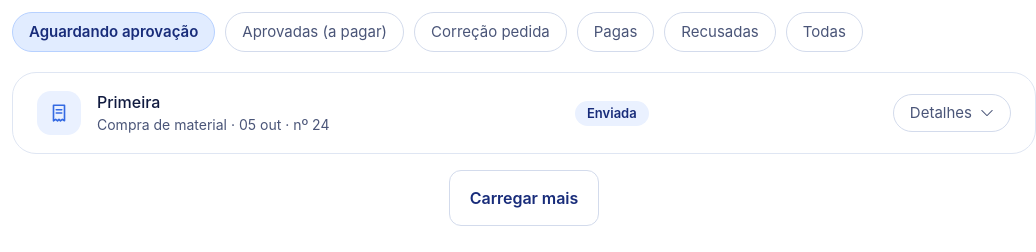
Test: Fila da gestao › carregar mais segue o cursor e acrescenta
The width and height of the screenshot is (1036, 252).
Expected: the text "Primeira" is shown, [97, 92, 160, 112]
Click the button "Carregar mais". click: (524, 198)
box: [449, 170, 599, 226]
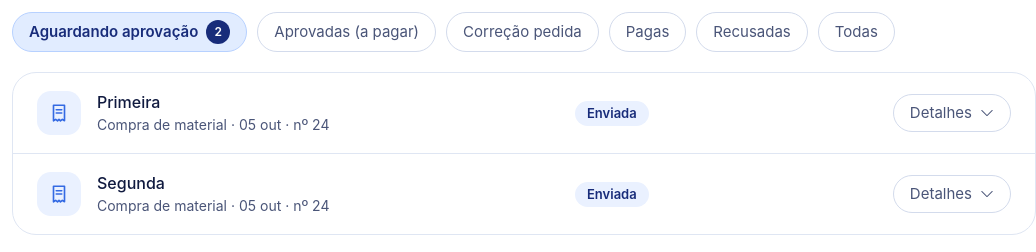
Now the text "Segunda" is shown, box [97, 173, 165, 193]
Now the button "Carregar mais" is gone
